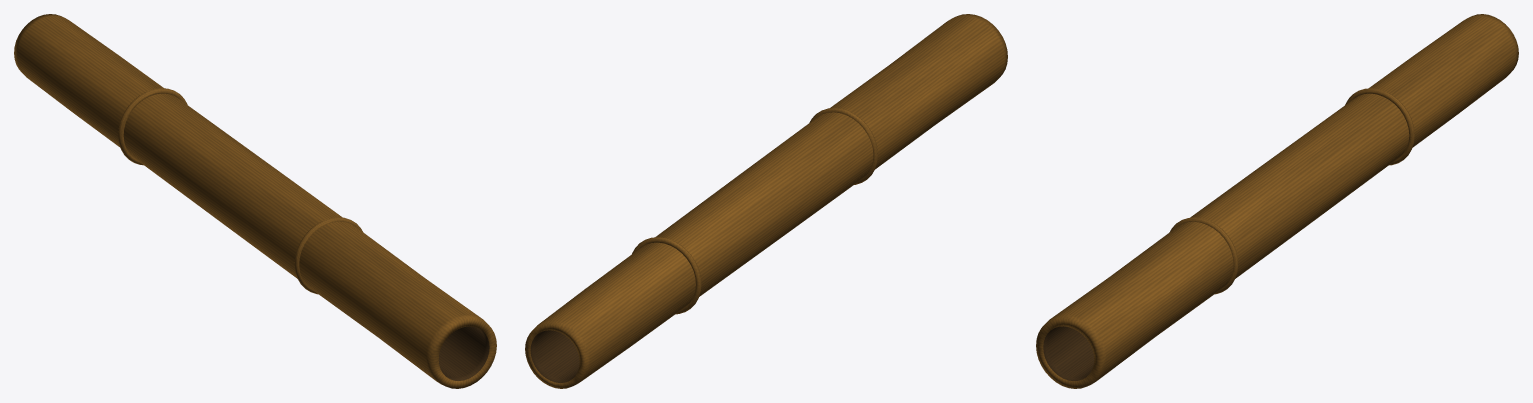
File: SM_BlowTube.fbx
The picture shows the model from 3 angles, left to right: view 1: azimuth 30°, elevation 25°; view 2: azimuth 150°, elevation 25°; view 3: azimuth 330°, elevation 25°; orthographic projection.
Visible parts, largest first — view 1: BlowTube_Mesh; view 2: BlowTube_Mesh; view 3: BlowTube_Mesh.
Boxes of the visible parts, box(x1,y1,x2,y2) form: BlowTube_Mesh: box(14, 14, 496, 388); BlowTube_Mesh: box(525, 14, 1007, 388); BlowTube_Mesh: box(1036, 14, 1518, 388).
Size of the model in its own units: 0.0396 by 0.0396 by 0.4.
2 materials, 2 textured.
